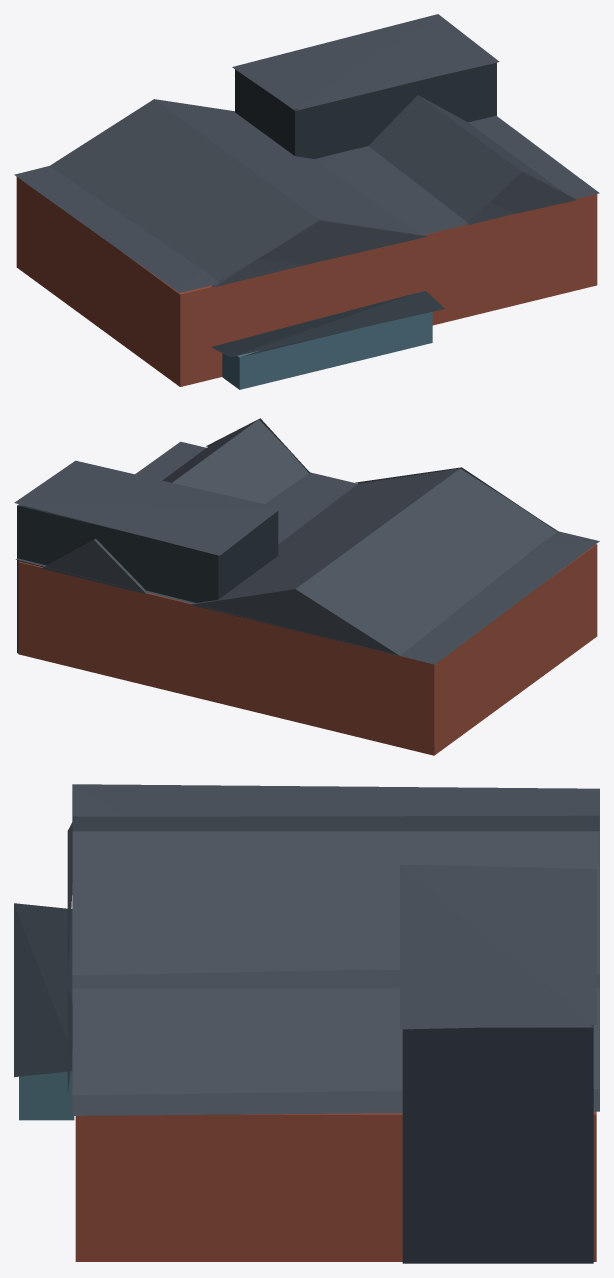
The model's file is melkweg.lod2.glb.
The picture shows the model from 3 angles, top to bottom: view 1: azimuth 30°, elevation 25°; view 2: azimuth 150°, elevation 25°; view 3: azimuth 270°, elevation 25°; orthographic projection. The views are drawn at different scales.
Parts seen in each view (by area): view 1: lod2; view 2: lod2; view 3: lod2.
Part boxes in pixels (x1,y1,x2,y2): lod2: (14, 14, 599, 389); lod2: (14, 418, 599, 755); lod2: (14, 784, 599, 1263).
Size of the model in its own units: 47.88 by 16.3 by 36.01.
